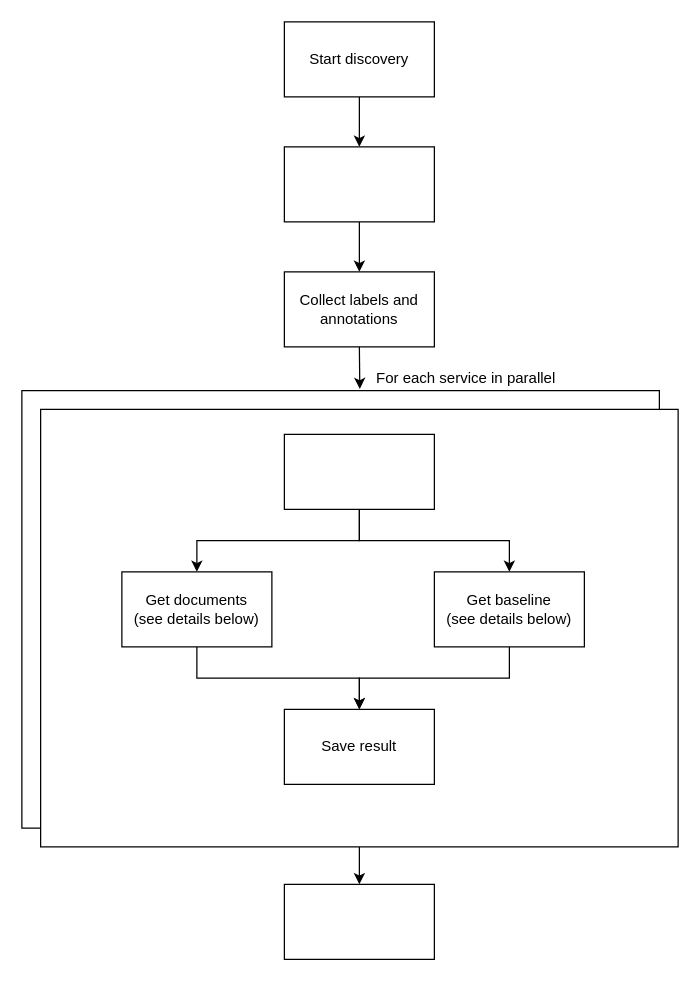
Some shapes in this 700 by 981 pixel diagram are drawn without their labels. The centre of each missing label's shape, as x and y in pixels:
"Build discovery URLs with customization" goes at (x=358, y=471).
"List services and pods via paas-mediation" goes at (x=358, y=184).
"Update discovery status" goes at (x=358, y=921).
